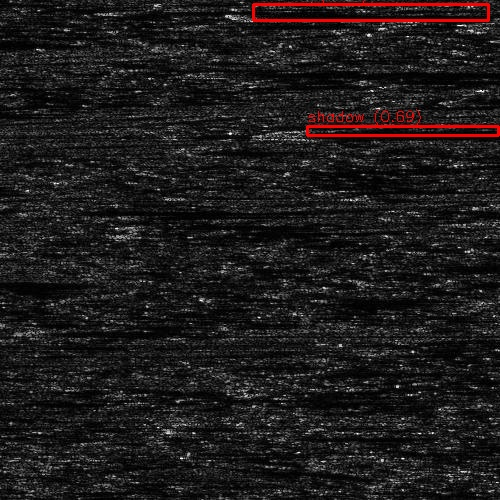rock: (201, 10, 306, 19), (265, 127, 318, 140), (461, 12, 500, 29), (0, 327, 73, 336), (164, 22, 257, 29), (168, 144, 231, 153), (185, 70, 258, 77), (451, 217, 500, 224), (43, 208, 84, 213), (108, 213, 149, 216), (124, 224, 155, 227)
shadow: (292, 127, 500, 140), (254, 10, 500, 19), (222, 70, 482, 77), (32, 327, 165, 336), (64, 208, 284, 213), (200, 144, 284, 153), (140, 224, 365, 227), (211, 22, 296, 29), (129, 213, 279, 216), (0, 37, 43, 46), (0, 280, 52, 287)
